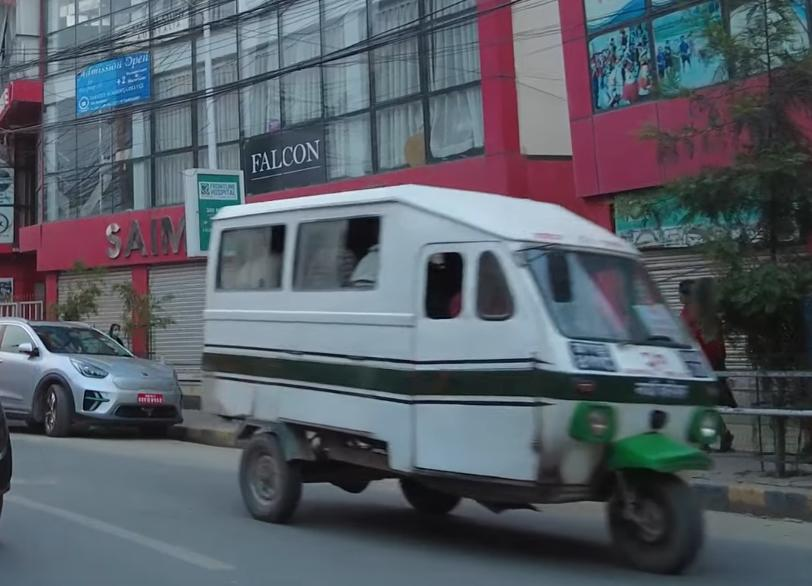car: (0, 313, 187, 443)
tempo: (186, 184, 737, 572)
